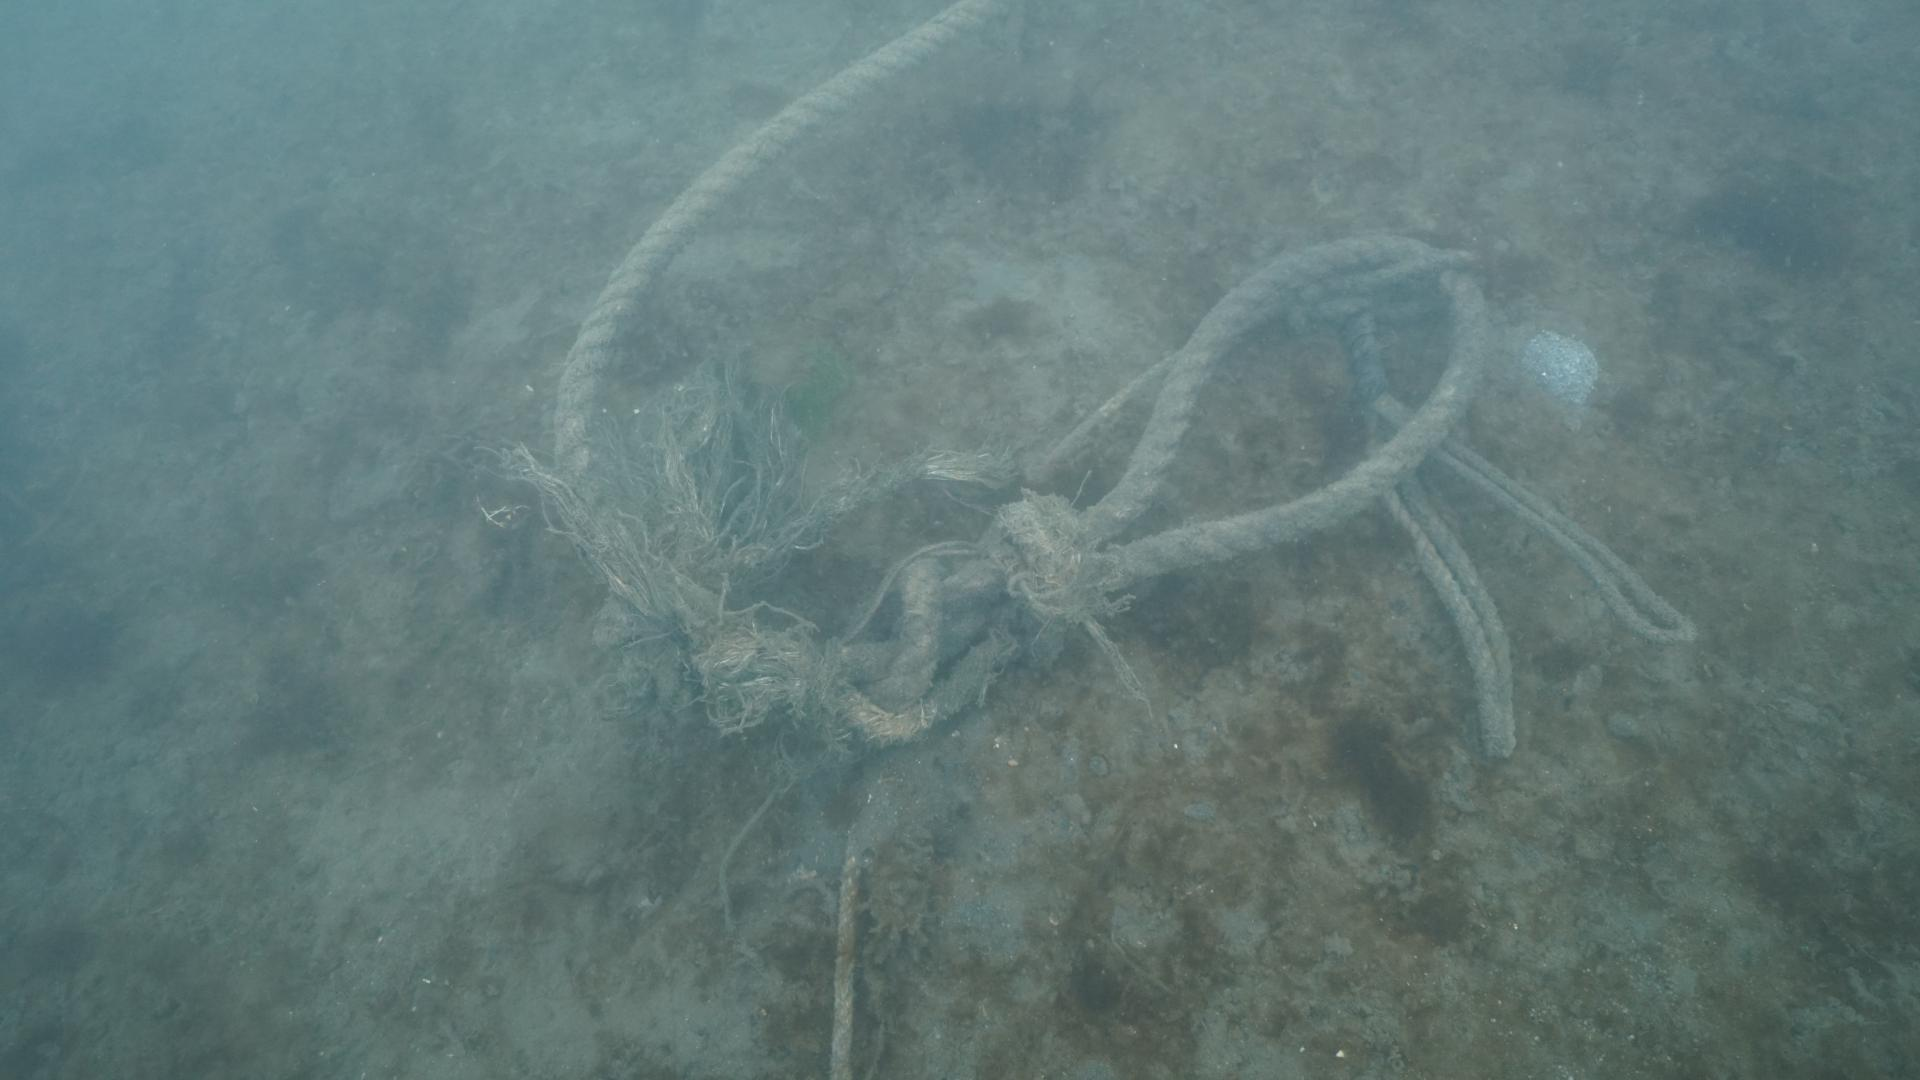bundle of ropes: (541, 0, 1708, 760)
